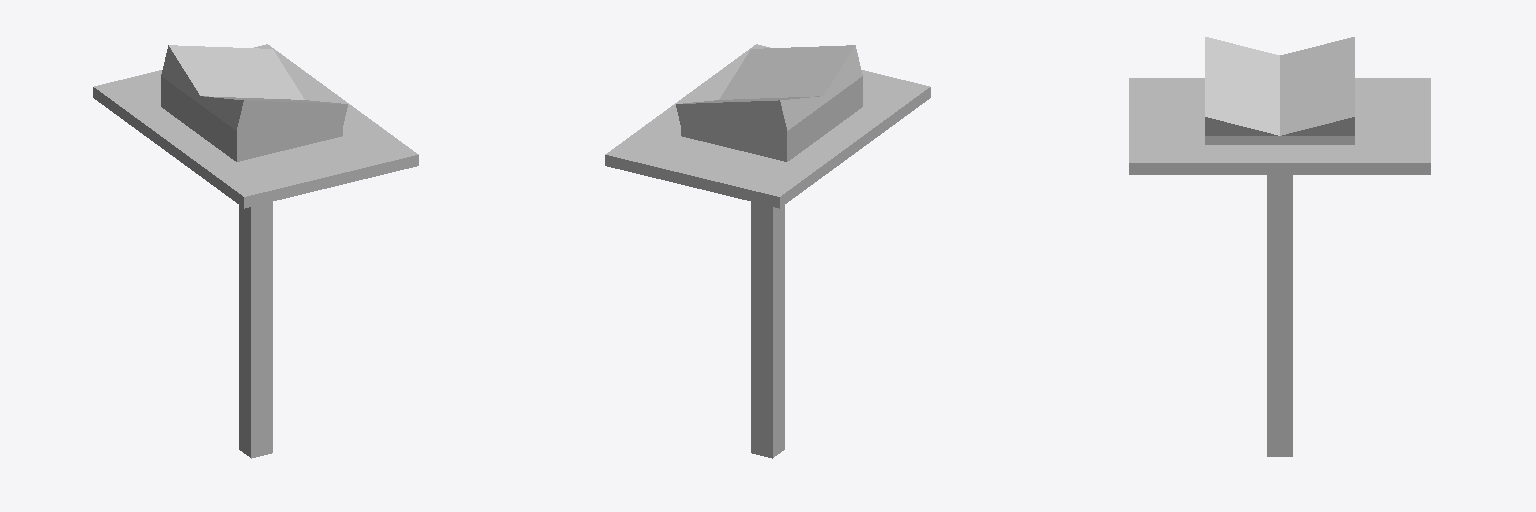
File: Table.obj
3 renders of one model, left to right at view 1: azimuth 30°, elevation 25°; view 2: azimuth 150°, elevation 25°; view 3: azimuth 270°, elevation 25°, orthographic.
Visible parts, largest first — view 1: entity0_brush1, entity0_brush0, entity0_brush2, entity0_brush5, entity0_brush4, entity0_brush3; view 2: entity0_brush1, entity0_brush0, entity0_brush4, entity0_brush3, entity0_brush2, entity0_brush5; view 3: entity0_brush1, entity0_brush0, entity0_brush2, entity0_brush4, entity0_brush3, entity0_brush5.
Boxes of the visible parts, x1,y1,x2,y2 form: entity0_brush1: [93, 44, 418, 208]; entity0_brush0: [239, 202, 272, 458]; entity0_brush2: [163, 45, 304, 99]; entity0_brush5: [199, 96, 342, 161]; entity0_brush4: [201, 96, 347, 127]; entity0_brush3: [161, 69, 199, 133]; entity0_brush1: [605, 44, 930, 208]; entity0_brush0: [751, 202, 784, 458]; entity0_brush4: [719, 45, 860, 99]; entity0_brush3: [681, 96, 824, 161]; entity0_brush2: [676, 96, 822, 127]; entity0_brush5: [824, 69, 862, 133]; entity0_brush1: [1129, 78, 1430, 174]; entity0_brush0: [1267, 175, 1292, 456]; entity0_brush2: [1280, 37, 1354, 135]; entity0_brush4: [1205, 37, 1279, 135]; entity0_brush3: [1280, 136, 1354, 144]; entity0_brush5: [1205, 136, 1279, 144].
Bounding box in the file's own units: 64 × 137 × 96.